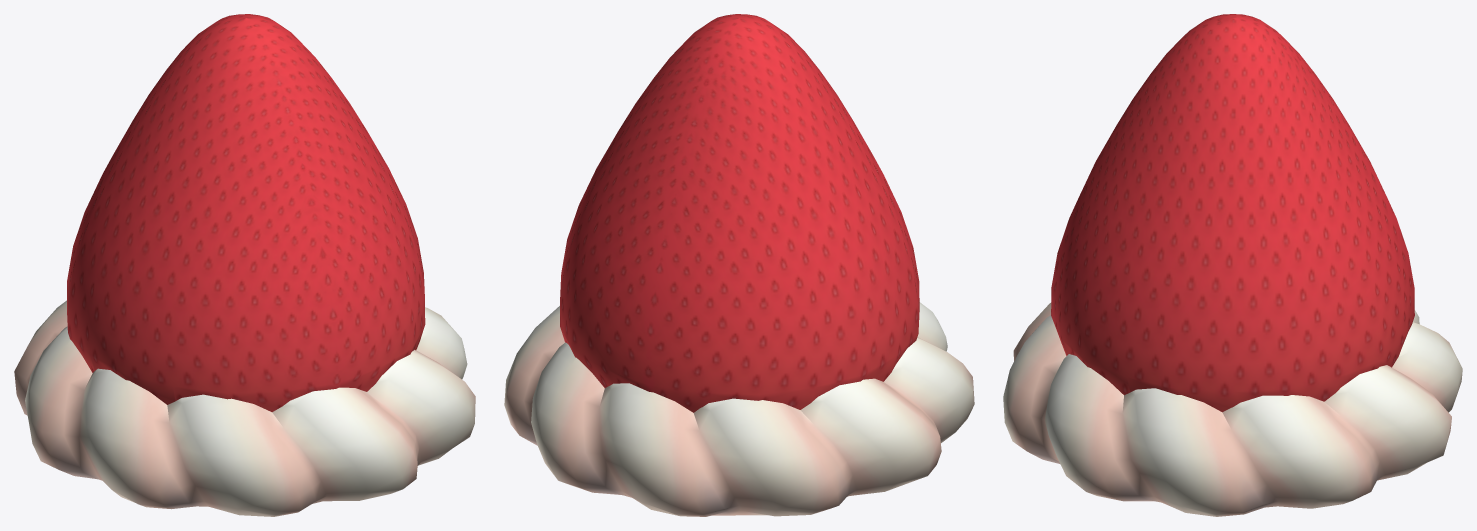
File: Strawberry_and_Whippedcream.fbx
3 renders of one model, left to right at view 1: azimuth 30°, elevation 25°; view 2: azimuth 150°, elevation 25°; view 3: azimuth 270°, elevation 25°, orthographic.
Visible parts, largest first — view 1: cream_ichigo; view 2: cream_ichigo; view 3: cream_ichigo.
Boxes of the visible parts, bbox=[...] form: cream_ichigo: bbox=[14, 14, 475, 516]; cream_ichigo: bbox=[504, 14, 974, 516]; cream_ichigo: bbox=[1003, 14, 1462, 516].
Bounding box in the file's own units: 131 × 132 × 129.
1 material, 1 textured.
